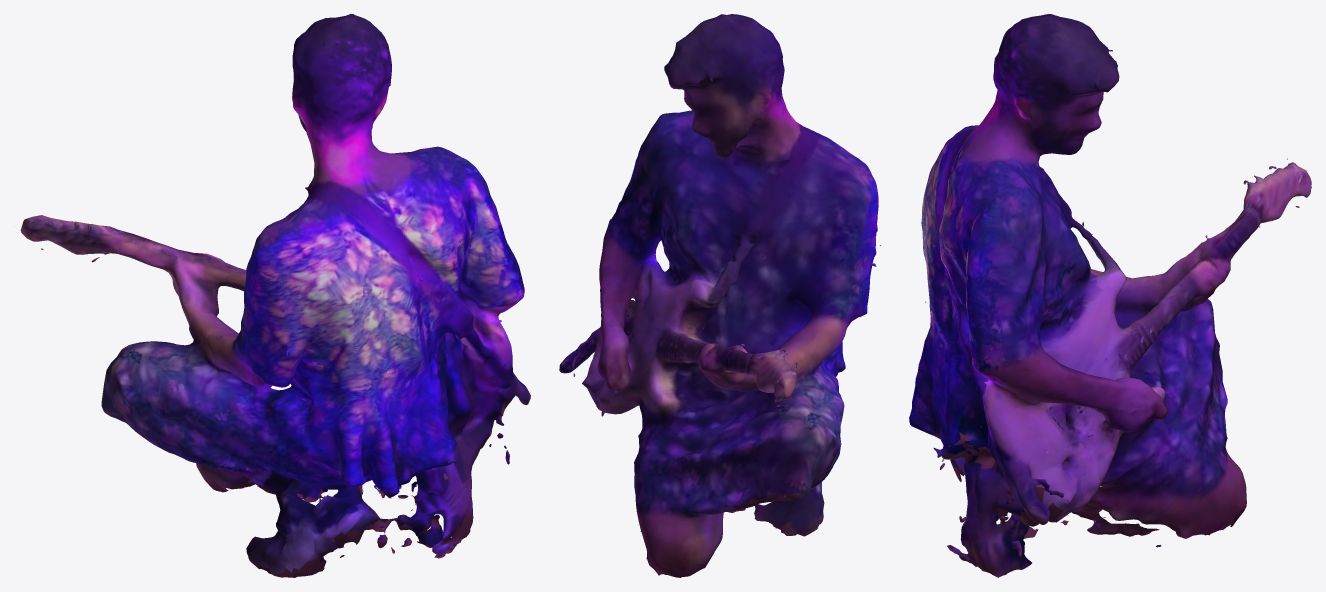
The model's file is raf_low_poly.glb.
3 views of the same model, side by side, from view 1: azimuth 30°, elevation 25°; view 2: azimuth 150°, elevation 25°; view 3: azimuth 270°, elevation 25° (orthographic). The views are drawn at different scales.
Bounding box in the file's own units: 2.49 × 3.26 × 2.28.
Materials: 7 (7 with a texture image).
